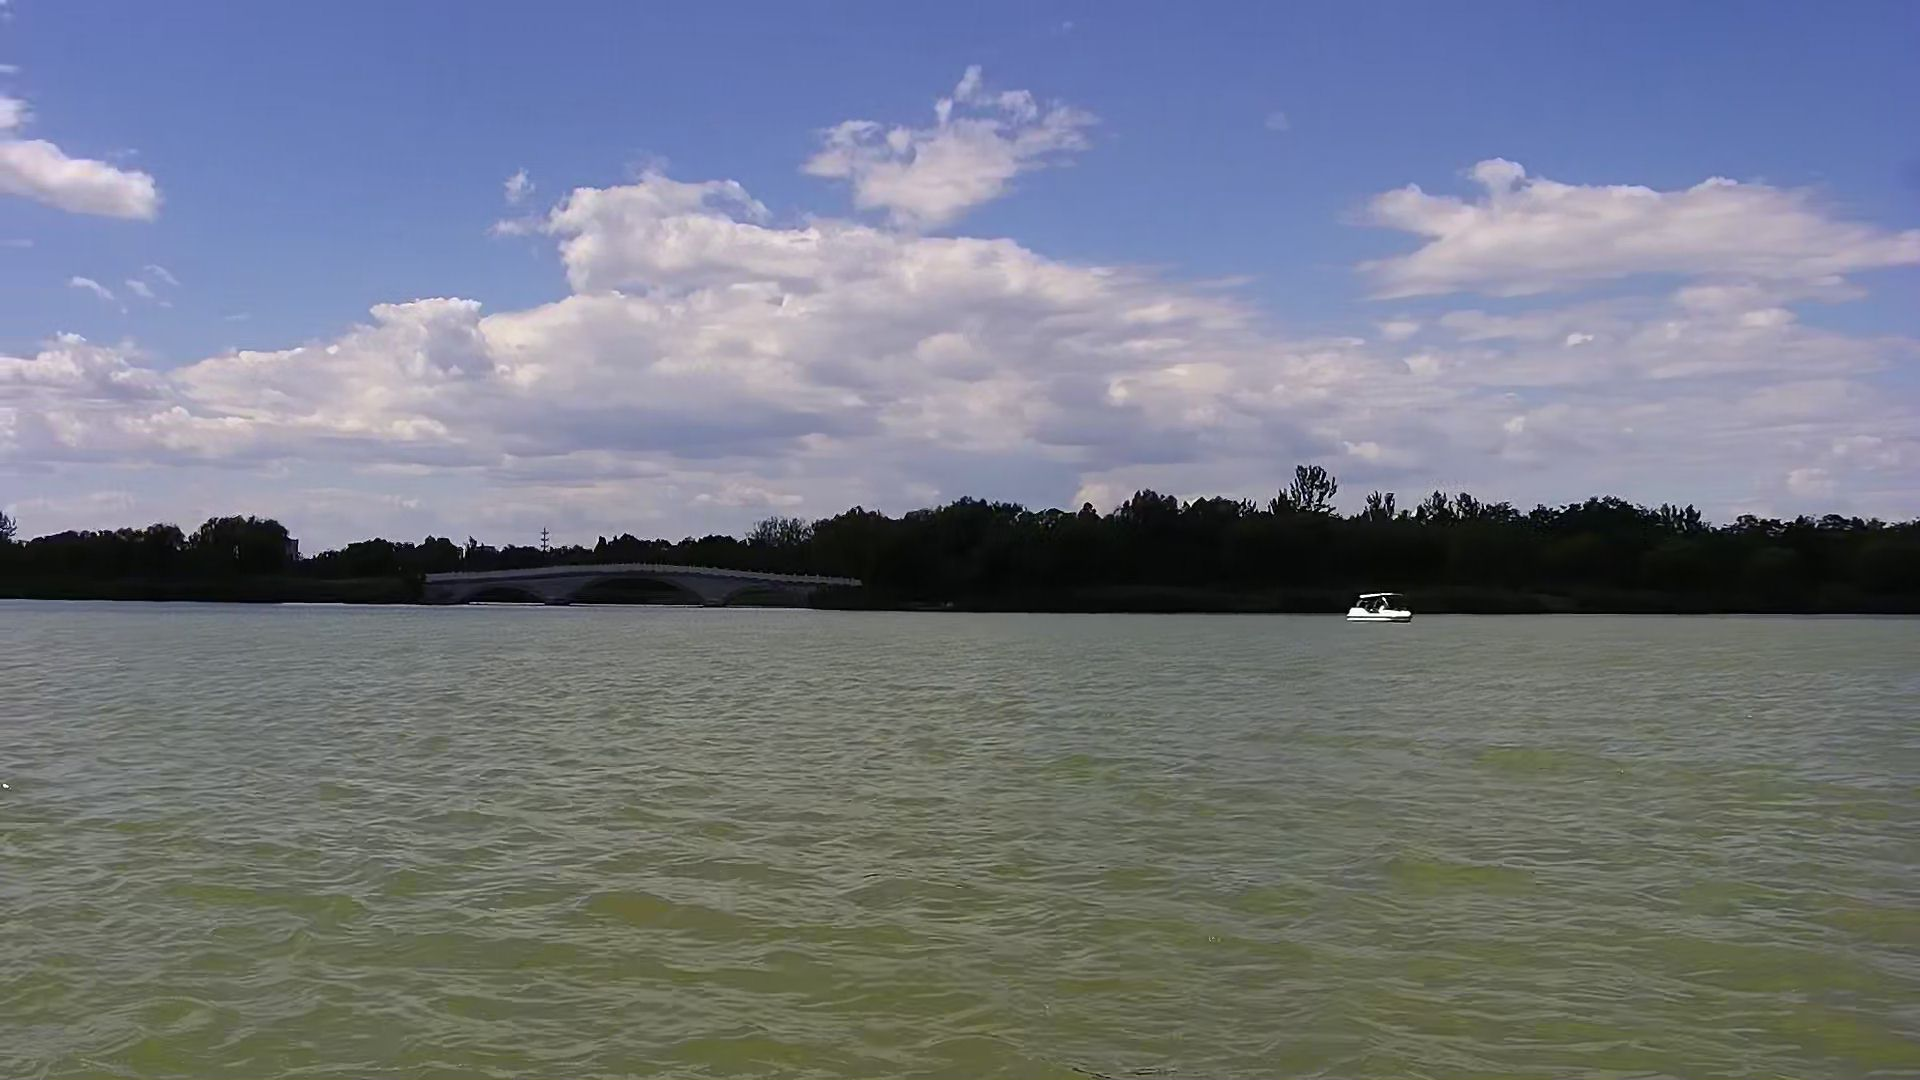boat: (1341, 587, 1419, 630)
bridge: (415, 556, 876, 620)
